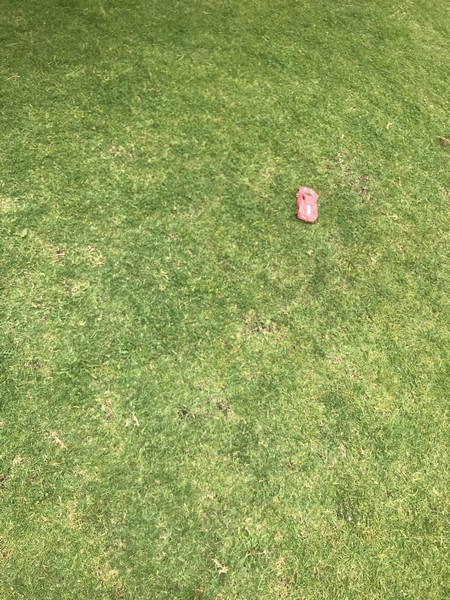RC: (293, 184, 322, 224)
